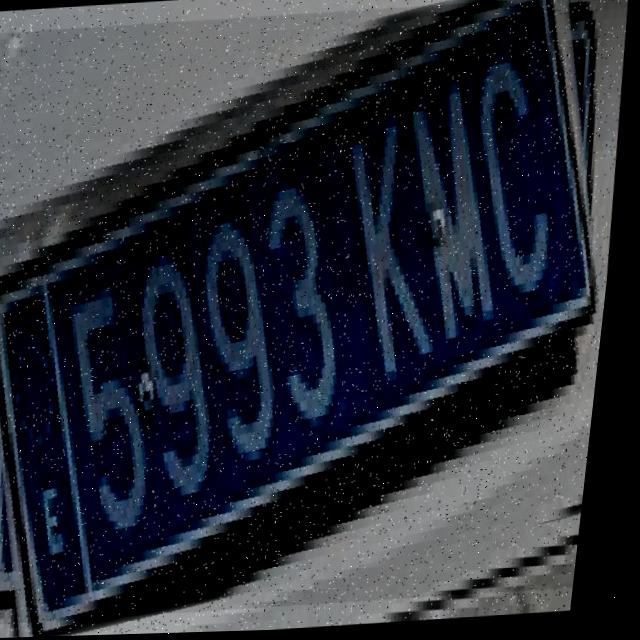LicensePlate: (0, 0, 639, 628)
